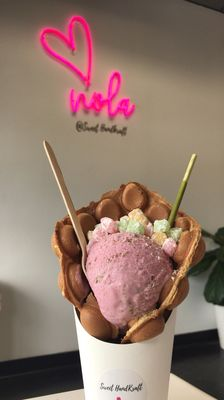pizza: (73, 305, 178, 400)
soup: (51, 181, 205, 344)
